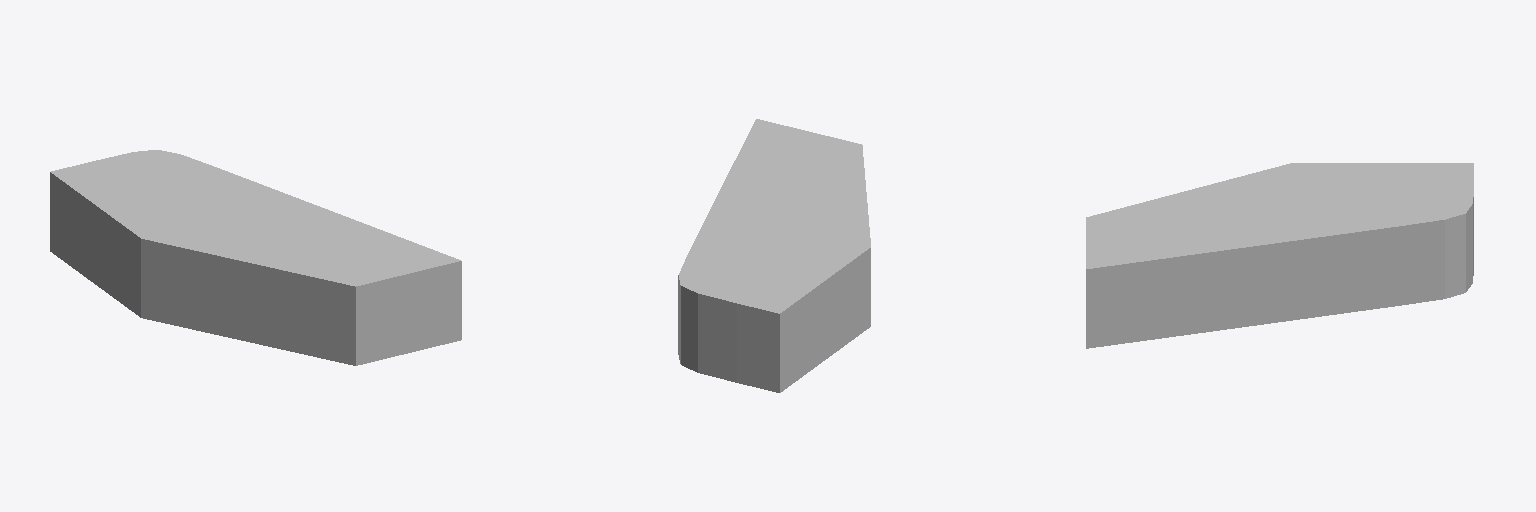
The model's file is pentagon_collision_30.obj.
3 renders of one model, left to right at view 1: azimuth 30°, elevation 25°; view 2: azimuth 150°, elevation 25°; view 3: azimuth 270°, elevation 25°, orthographic.
Size of the model in its own units: 0.0043 by 0.0015 by 0.0066.